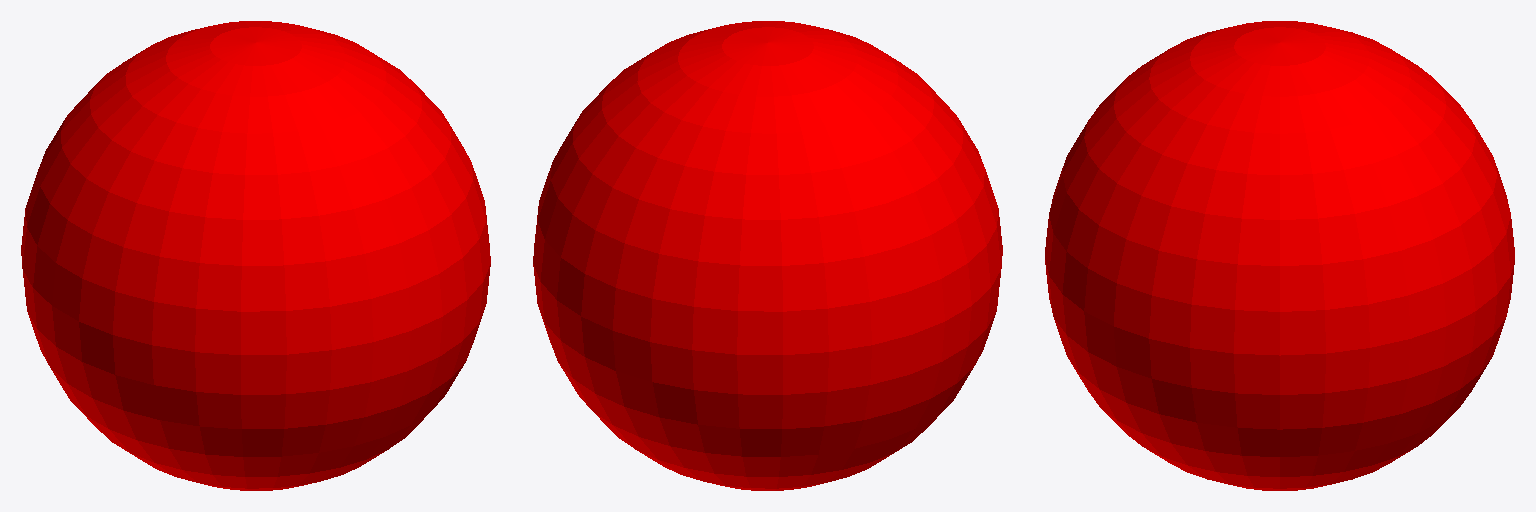
The model's file is ball.obj.
3 renders of one model, left to right at view 1: azimuth 30°, elevation 25°; view 2: azimuth 150°, elevation 25°; view 3: azimuth 270°, elevation 25°, orthographic.
Visible parts, largest first — view 1: Sphere; view 2: Sphere; view 3: Sphere.
Part boxes in pixels (x1,y1,x2,y2): Sphere: (21,21,490,490); Sphere: (533,21,1002,490); Sphere: (1045,21,1514,490).
Bounding box in the file's own units: 2 × 2 × 2.